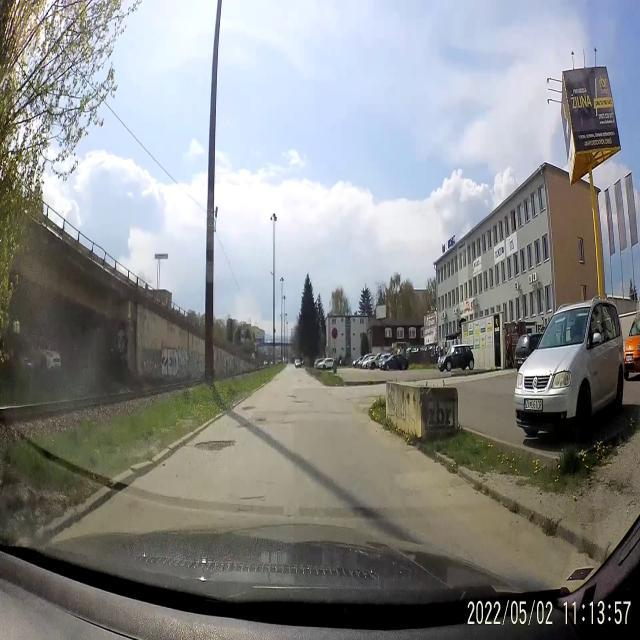Pothole: (192, 432, 239, 456), (252, 412, 270, 432), (238, 492, 266, 504), (288, 396, 310, 408), (240, 399, 256, 415), (235, 418, 250, 432), (234, 508, 252, 514), (285, 392, 298, 400), (294, 380, 303, 382)
